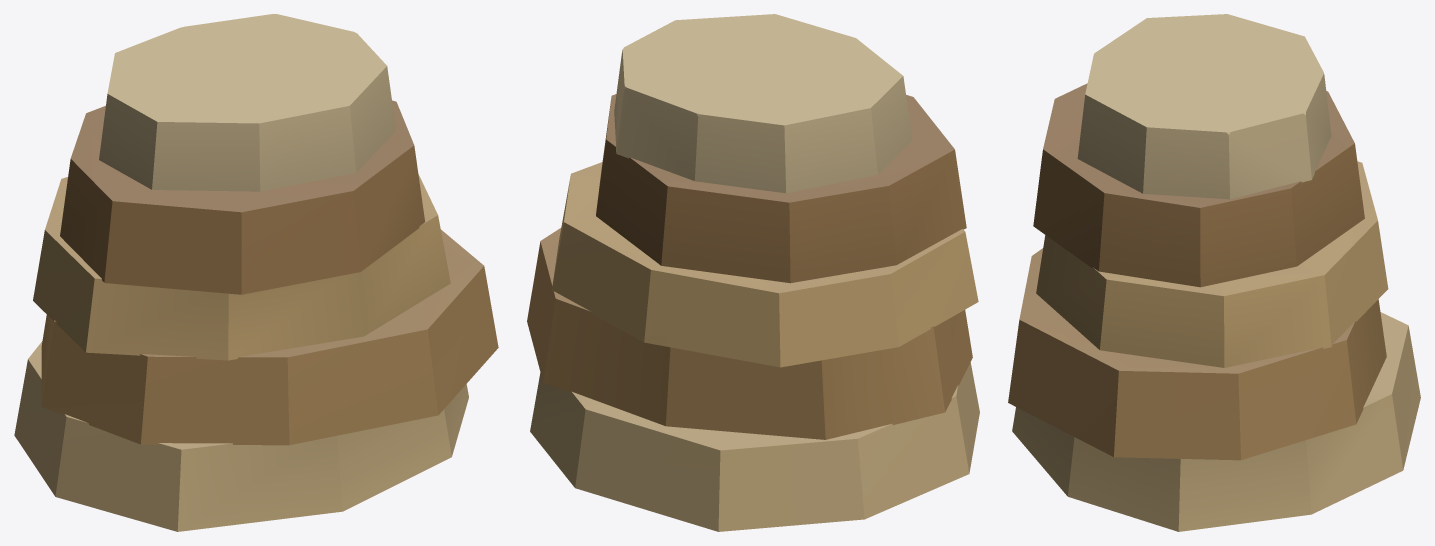
File: ore_sandstone.glb
3 views of the same model, side by side, from view 1: azimuth 30°, elevation 25°; view 2: azimuth 150°, elevation 25°; view 3: azimuth 270°, elevation 25° (orthographic). The views are drawn at different scales.
Size of the model in its own units: 0.26 by 0.22 by 0.23.
